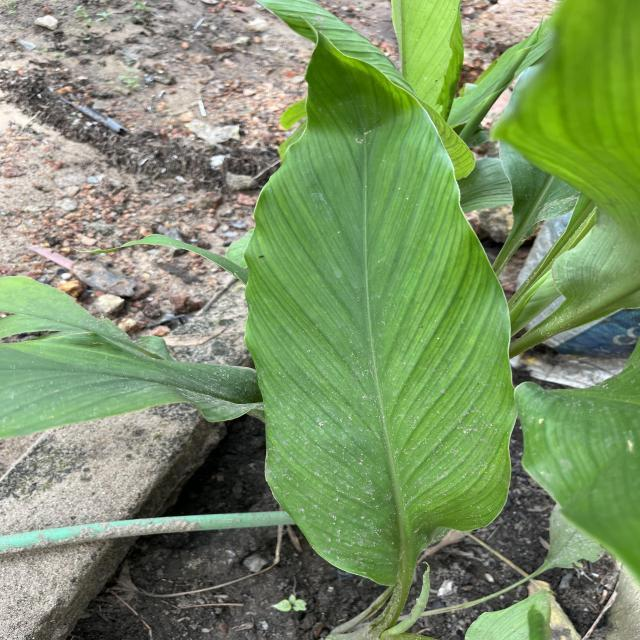Curcuma longa: (239, 9, 523, 590)
